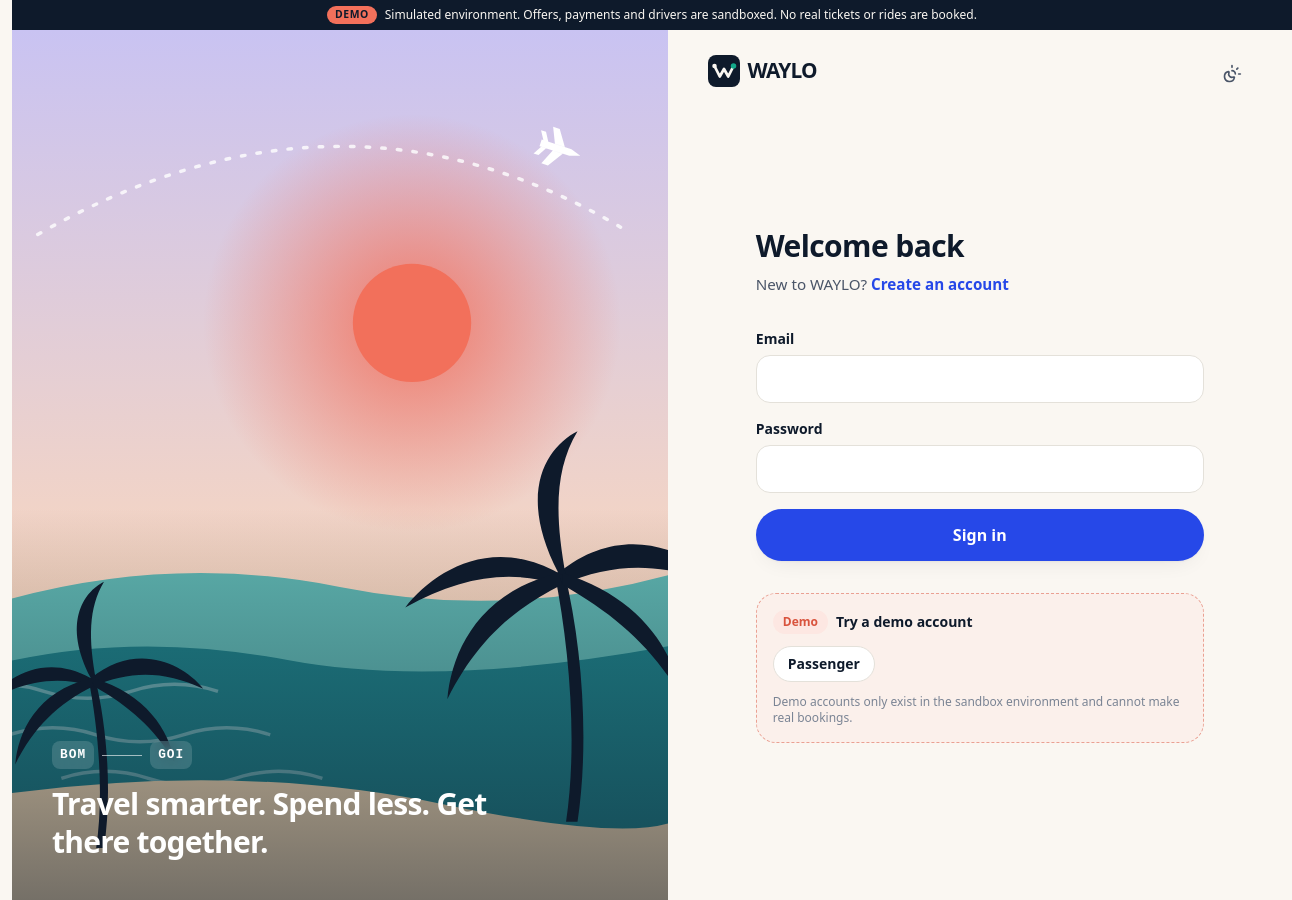
Test: Login page › offers demo account quick-fill when the API advertises demo mode
Step 1. Click the button "Passenger" → click(824, 664), box [773,646,875,682]
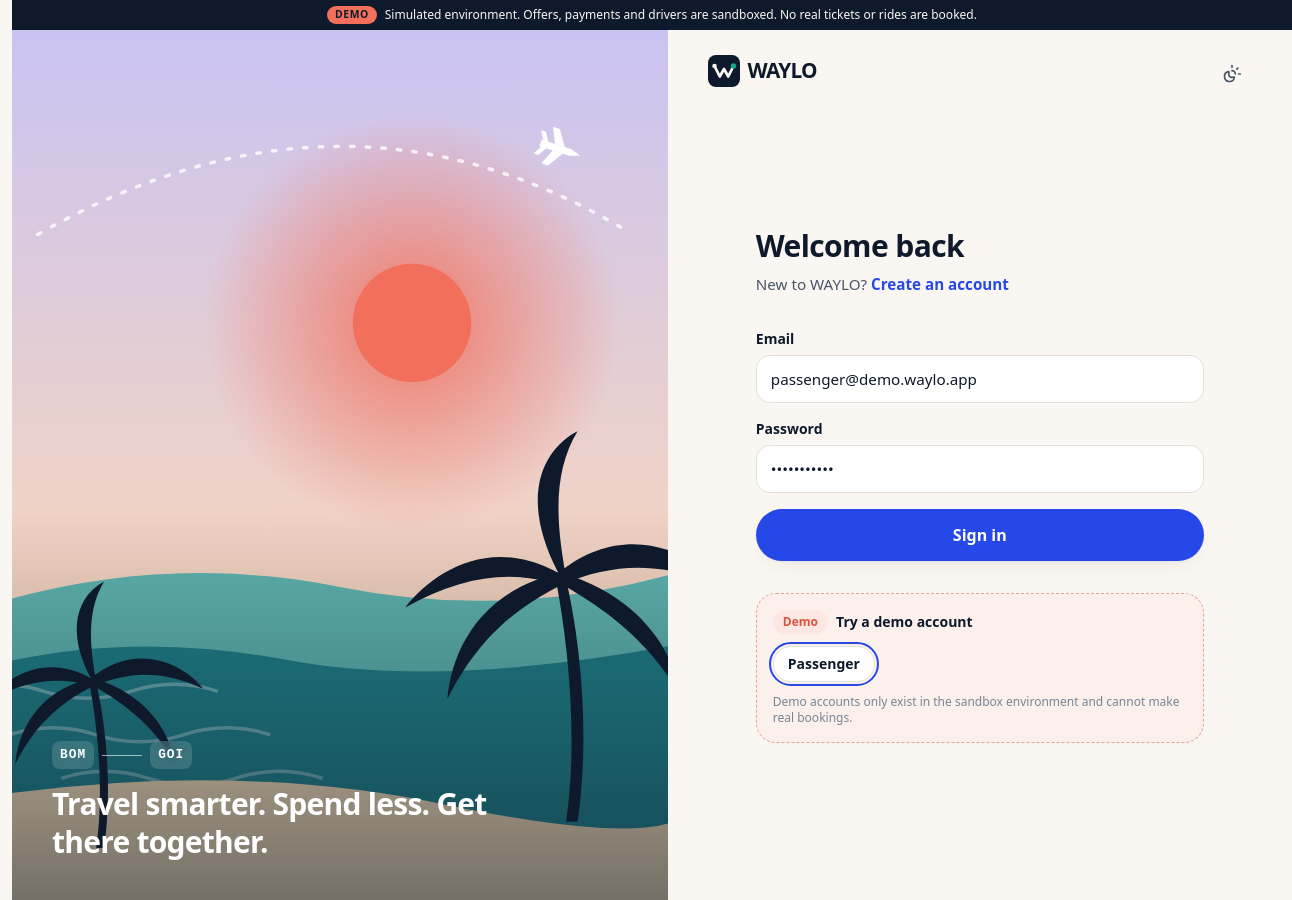
Expected: the field labelled "Email" holds "passenger@demo.waylo.app", [756,355,1204,403]
